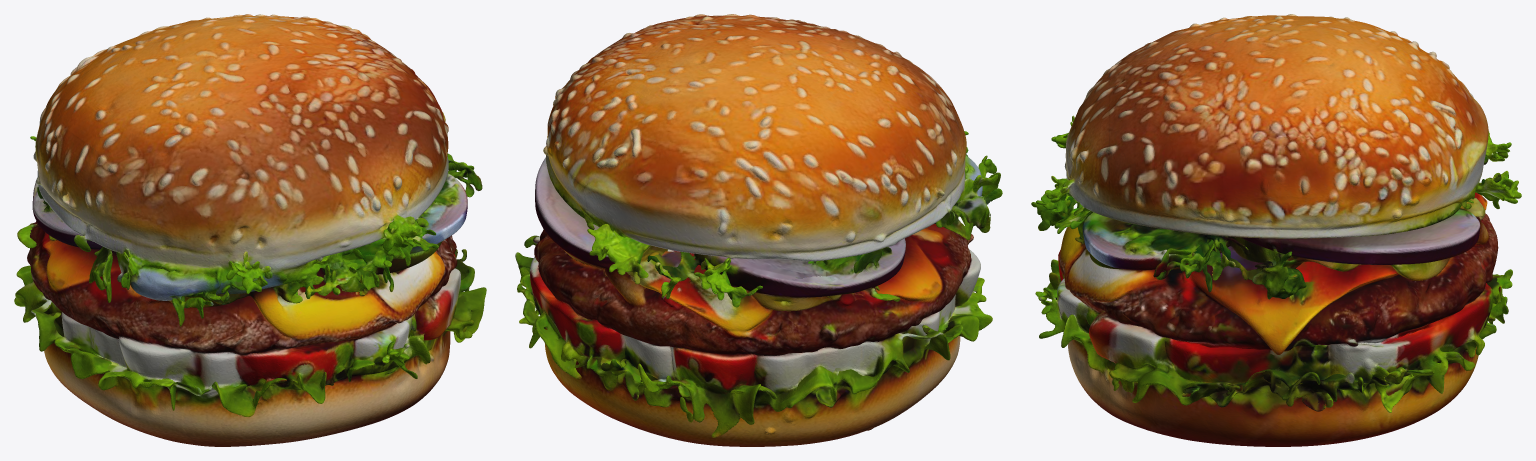
Rendered from burger_tripo-v2.glb.
The picture shows the model from 3 angles, left to right: view 1: azimuth 30°, elevation 25°; view 2: azimuth 150°, elevation 25°; view 3: azimuth 270°, elevation 25°; orthographic projection. The views are drawn at different scales.
Visible parts, largest first — view 1: tripo_node_ee6f7a66-188a-4fbd-8843-1ed6233253f1; view 2: tripo_node_ee6f7a66-188a-4fbd-8843-1ed6233253f1; view 3: tripo_node_ee6f7a66-188a-4fbd-8843-1ed6233253f1.
Boxes of the visible parts, x1,y1,x2,y2 form: tripo_node_ee6f7a66-188a-4fbd-8843-1ed6233253f1: (14, 14, 486, 446); tripo_node_ee6f7a66-188a-4fbd-8843-1ed6233253f1: (515, 14, 1002, 446); tripo_node_ee6f7a66-188a-4fbd-8843-1ed6233253f1: (1031, 14, 1521, 446).
Size of the model in its own units: 0.9708 by 0.747 by 1.
1 material, 1 textured.
